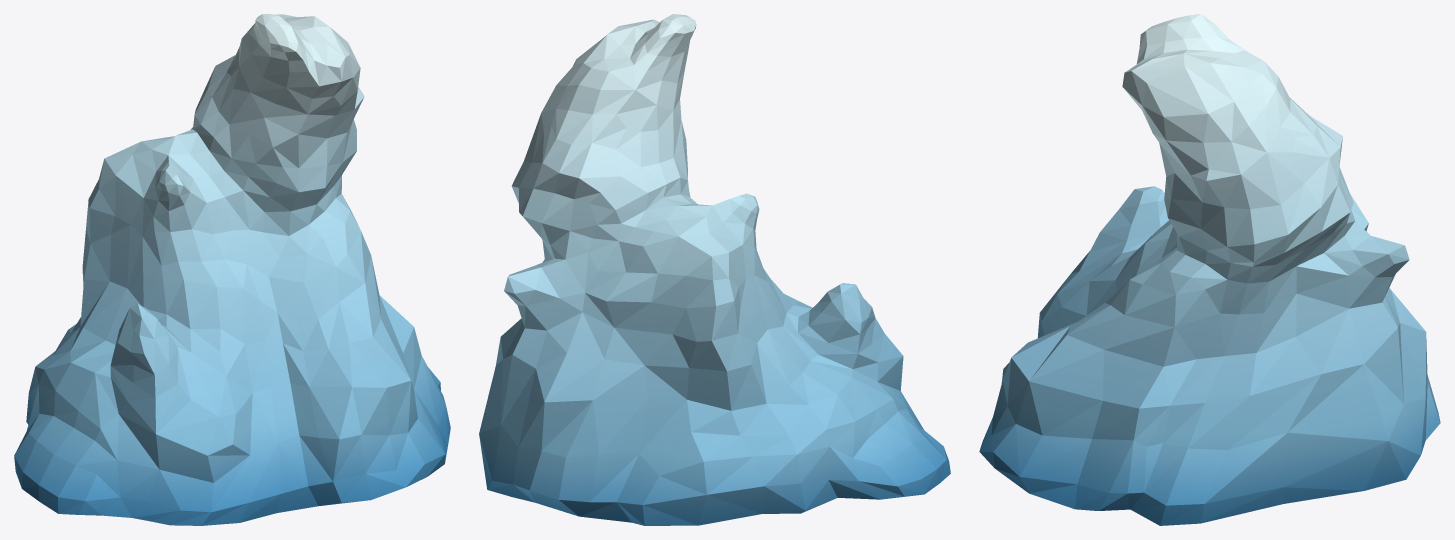
The model's file is Jungle_Clouds_Lrg_D.fbx.
3 views of the same model, side by side, from view 1: azimuth 30°, elevation 25°; view 2: azimuth 150°, elevation 25°; view 3: azimuth 270°, elevation 25° (orthographic). The views are drawn at different scales.
Visible parts, largest first — view 1: Jungle_Clouds_Lrg_D; view 2: Jungle_Clouds_Lrg_D; view 3: Jungle_Clouds_Lrg_D.
Boxes of the visible parts, <box> form: Jungle_Clouds_Lrg_D: <box>14,14,450,525</box>; Jungle_Clouds_Lrg_D: <box>479,14,950,525</box>; Jungle_Clouds_Lrg_D: <box>979,14,1440,525</box>.
Size of the model in its own units: 1137 by 1117 by 1067.
